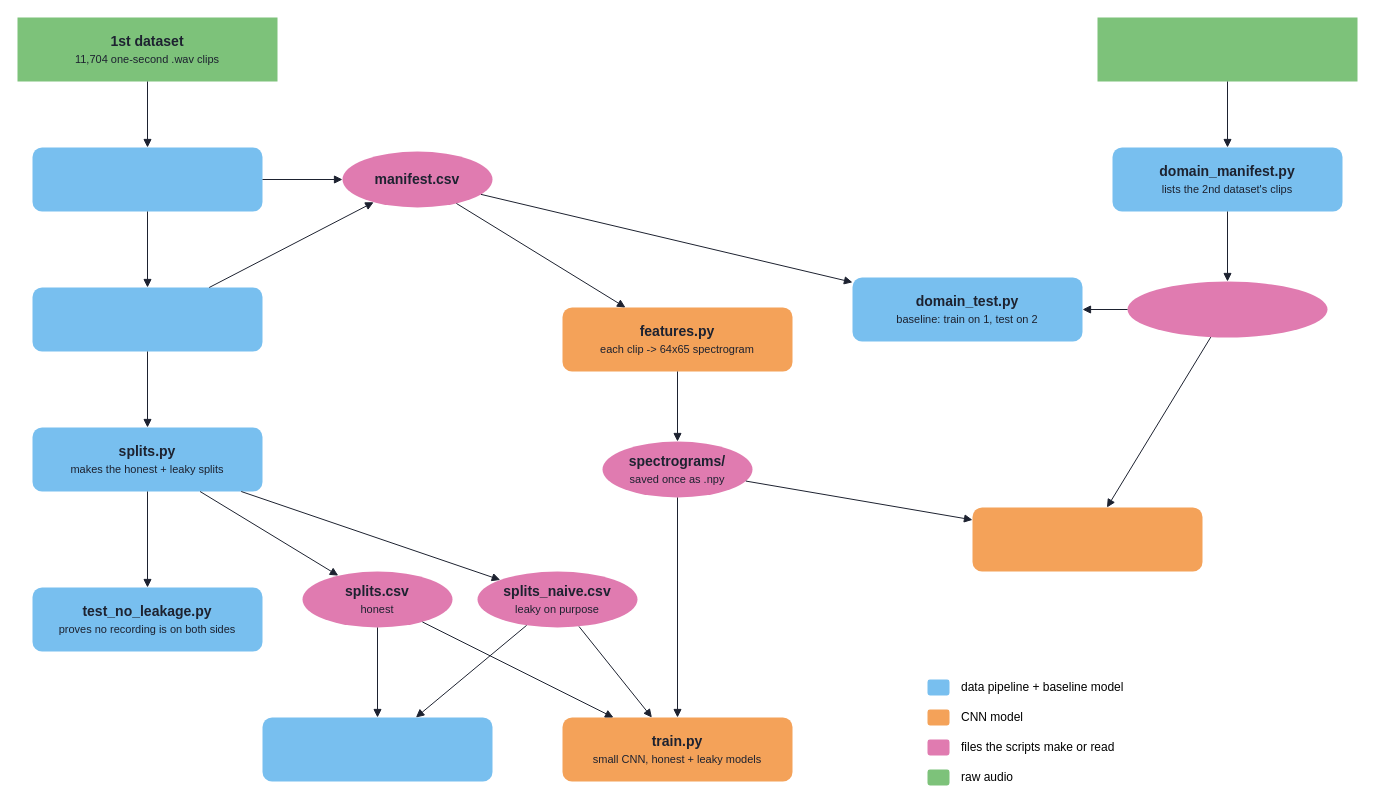
This 1374x806 diagram has some shape labels left out. The shapes that lost their labels are listed below. From the top down, each one's centre as x and y in pixels, then its label:
At point (1227, 49): "2nd dataset 546 clips, different mic + location".
At point (147, 179): "build_manifest.py tags each clip with its recording".
At point (147, 319): "detect_silence.py flags silent clips in the manifest".
At point (1227, 309): "domain_manifest.csv".
At point (1087, 539): "cnn_domain_test.py CNN: train on 1, test on 2".
At point (377, 749): "baseline.py 40 MFCCs -> logistic regression".
